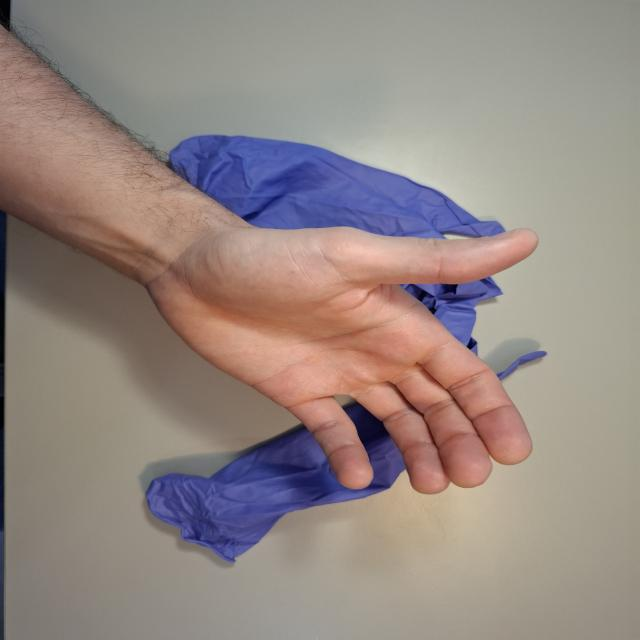glove_off: (141, 220, 543, 496)
